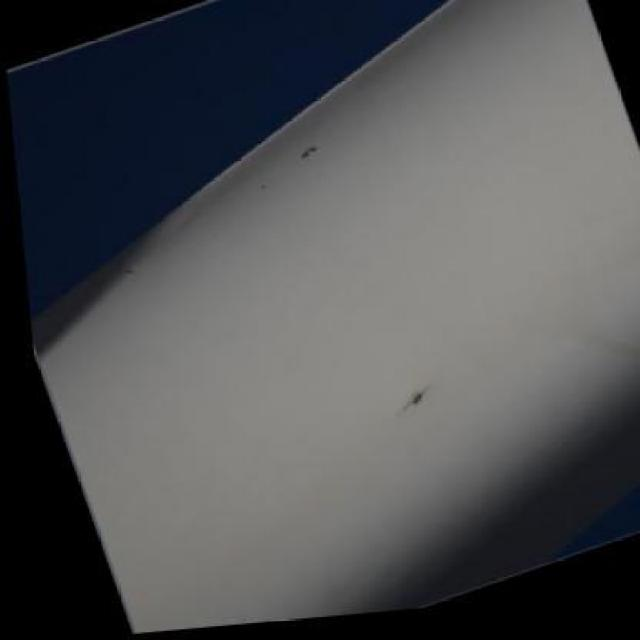Coating_defects: (294, 143, 324, 168)
Crack: (374, 389, 432, 434)
